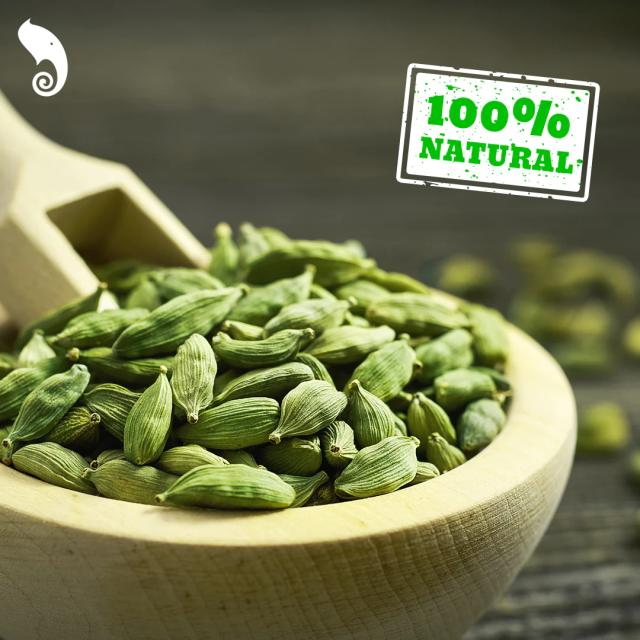Cardamom: (0, 231, 521, 499)
